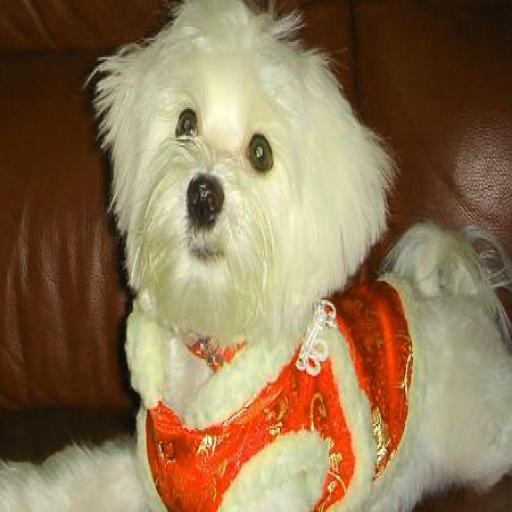dog_face: (89, 1, 349, 314)
